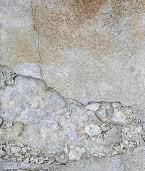Crack: (29, 1, 44, 80)
Spalling: (1, 64, 145, 165)
